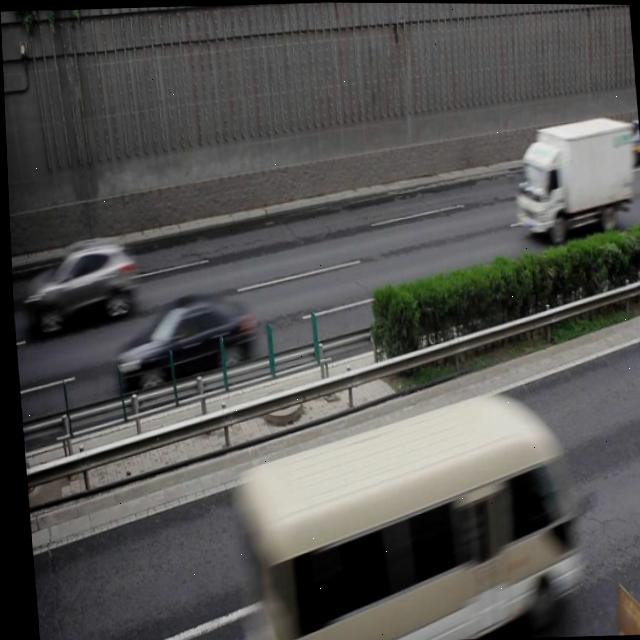bus: (507, 116, 636, 240)
car: (107, 293, 256, 396), (21, 237, 135, 329)
van: (225, 389, 577, 640)
